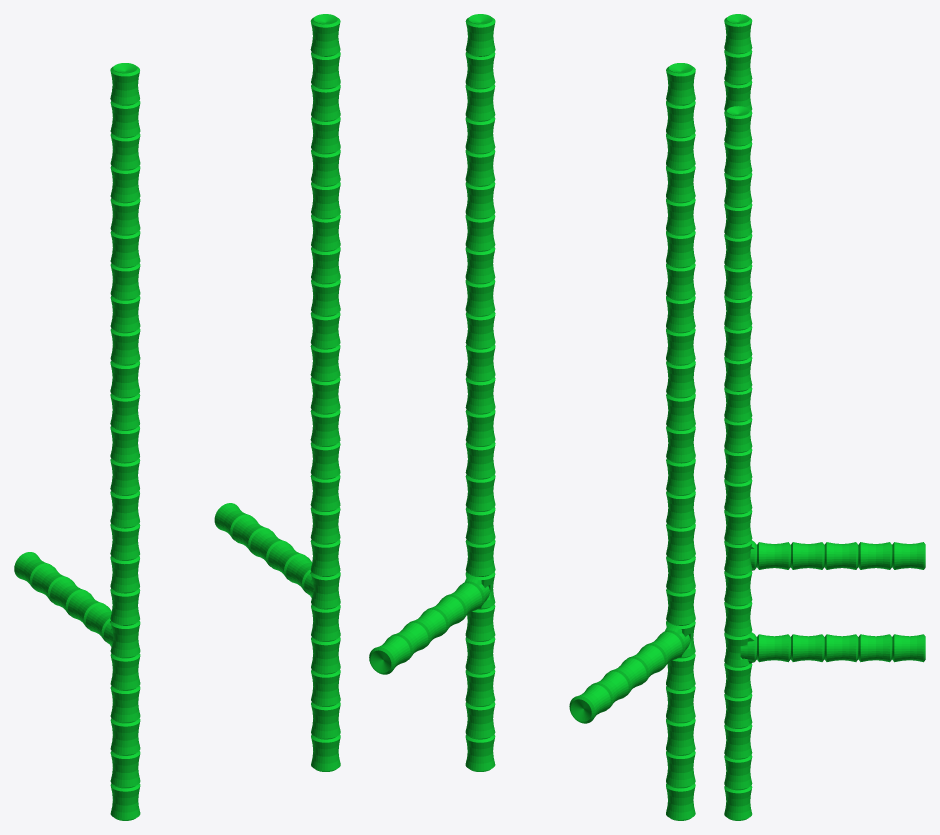
The model's file is Tongkat.fbx.
3 views of the same model, side by side, from view 1: azimuth 30°, elevation 25°; view 2: azimuth 150°, elevation 25°; view 3: azimuth 270°, elevation 25° (orthographic). The views are drawn at different scales.
Visible parts, largest first — view 1: Cylinder.000, Cylinder.001; view 2: Cylinder.001, Cylinder.000; view 3: Cylinder.001, Cylinder.000.
Boxes of the visible parts, x1,y1,x2,y2 form: Cylinder.000: (14, 63, 140, 820); Cylinder.001: (214, 14, 340, 771); Cylinder.001: (369, 14, 495, 771); Cylinder.000: (569, 63, 695, 820); Cylinder.001: (724, 106, 925, 820); Cylinder.000: (724, 14, 925, 632).
Bounding box in the file's own units: 75.55 × 239 × 61.79.
